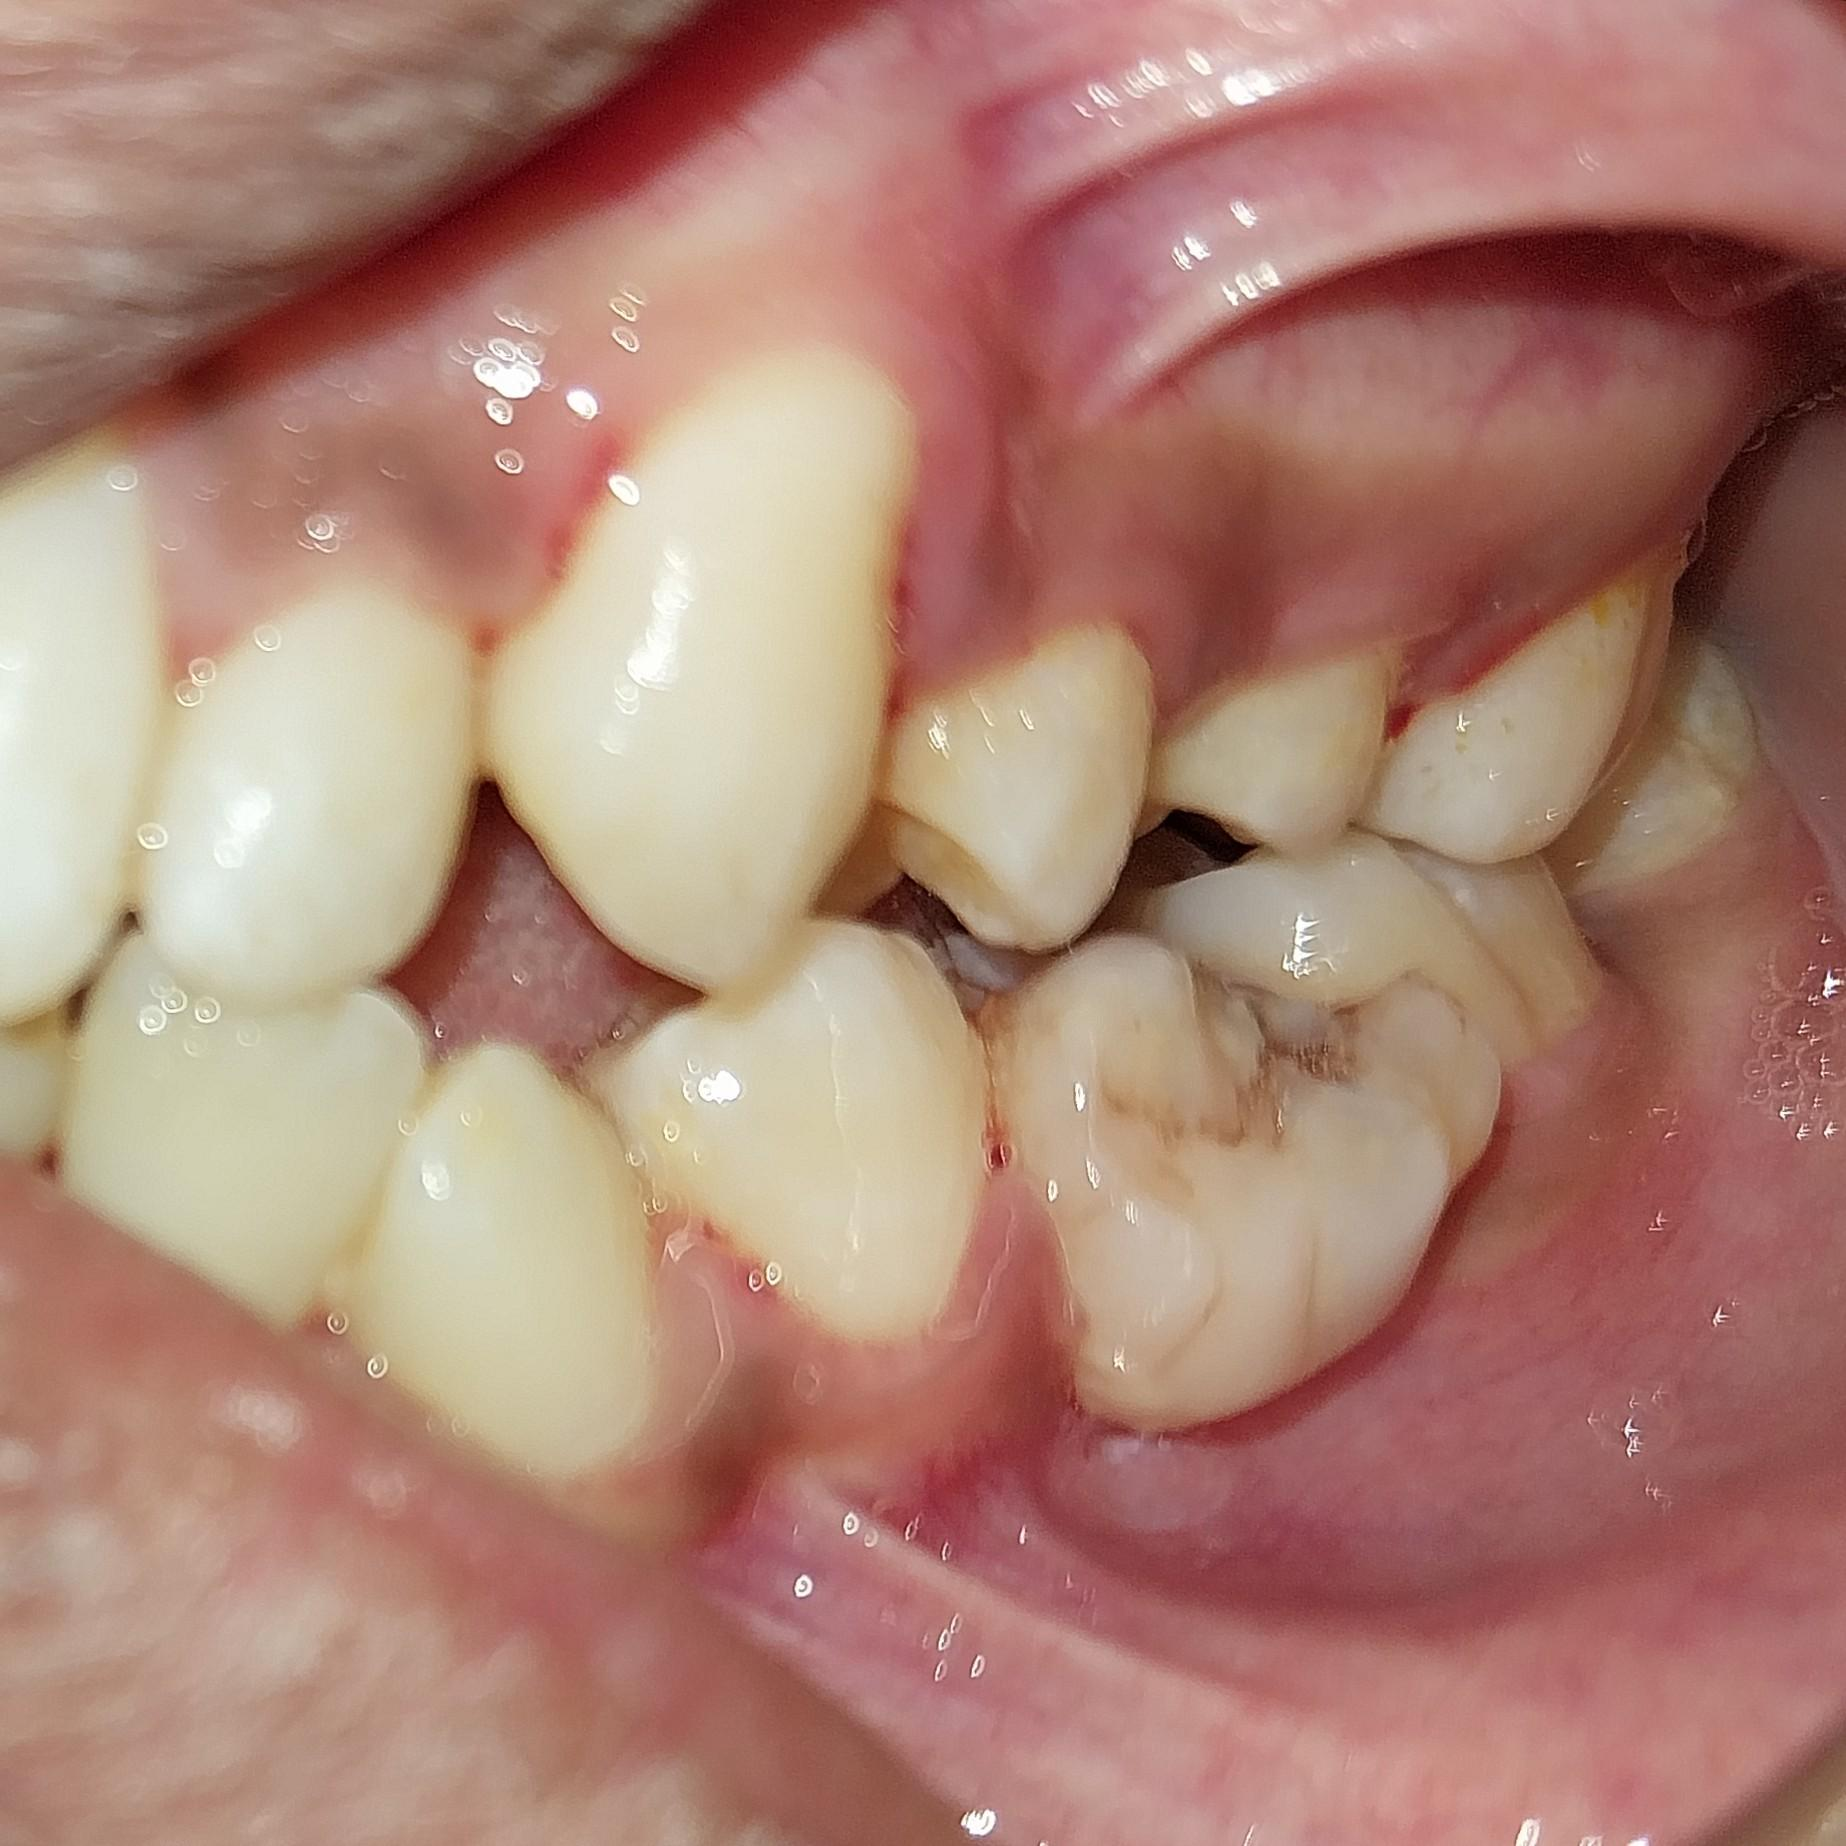d: (1031, 935, 1484, 1410)
